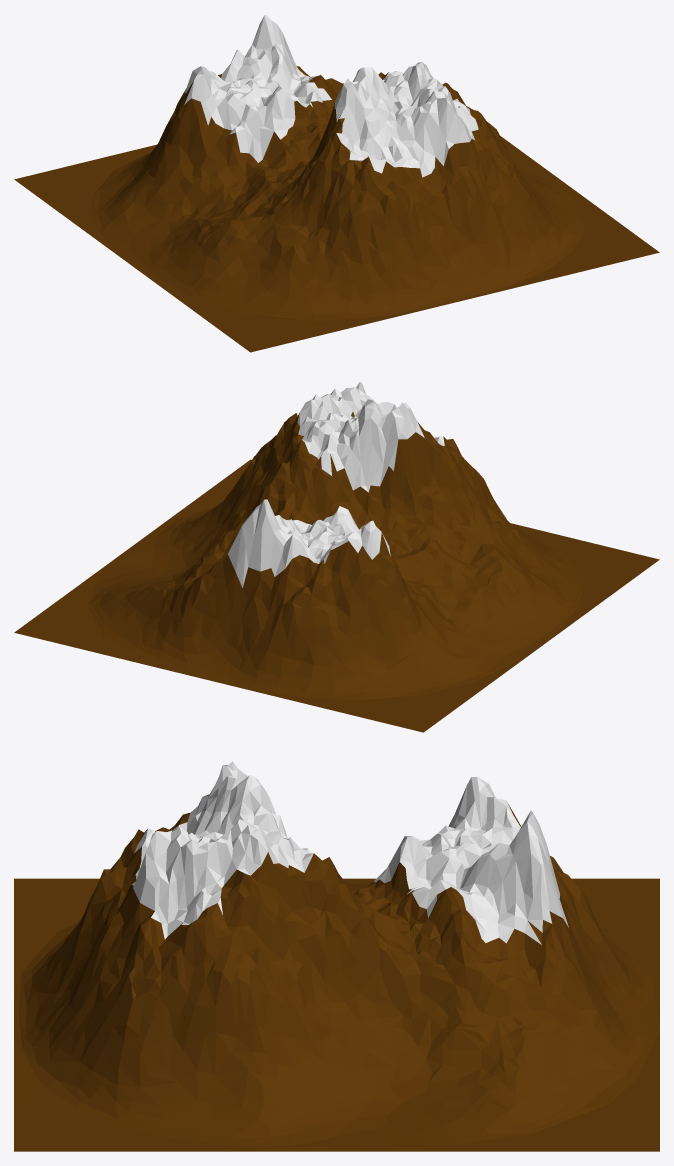
The model's file is LumiVuori.fbx.
The picture shows the model from 3 angles, top to bottom: view 1: azimuth 30°, elevation 25°; view 2: azimuth 150°, elevation 25°; view 3: azimuth 270°, elevation 25°; orthographic projection. The views are drawn at different scales.
Parts seen in each view (by area): view 1: Landscape; view 2: Landscape; view 3: Landscape.
Boxes of the visible parts, bbox=[...] form: Landscape: bbox=[14, 14, 659, 352]; Landscape: bbox=[14, 382, 659, 732]; Landscape: bbox=[14, 761, 659, 1151].
Size of the model in its own units: 200 by 80.85 by 200.
